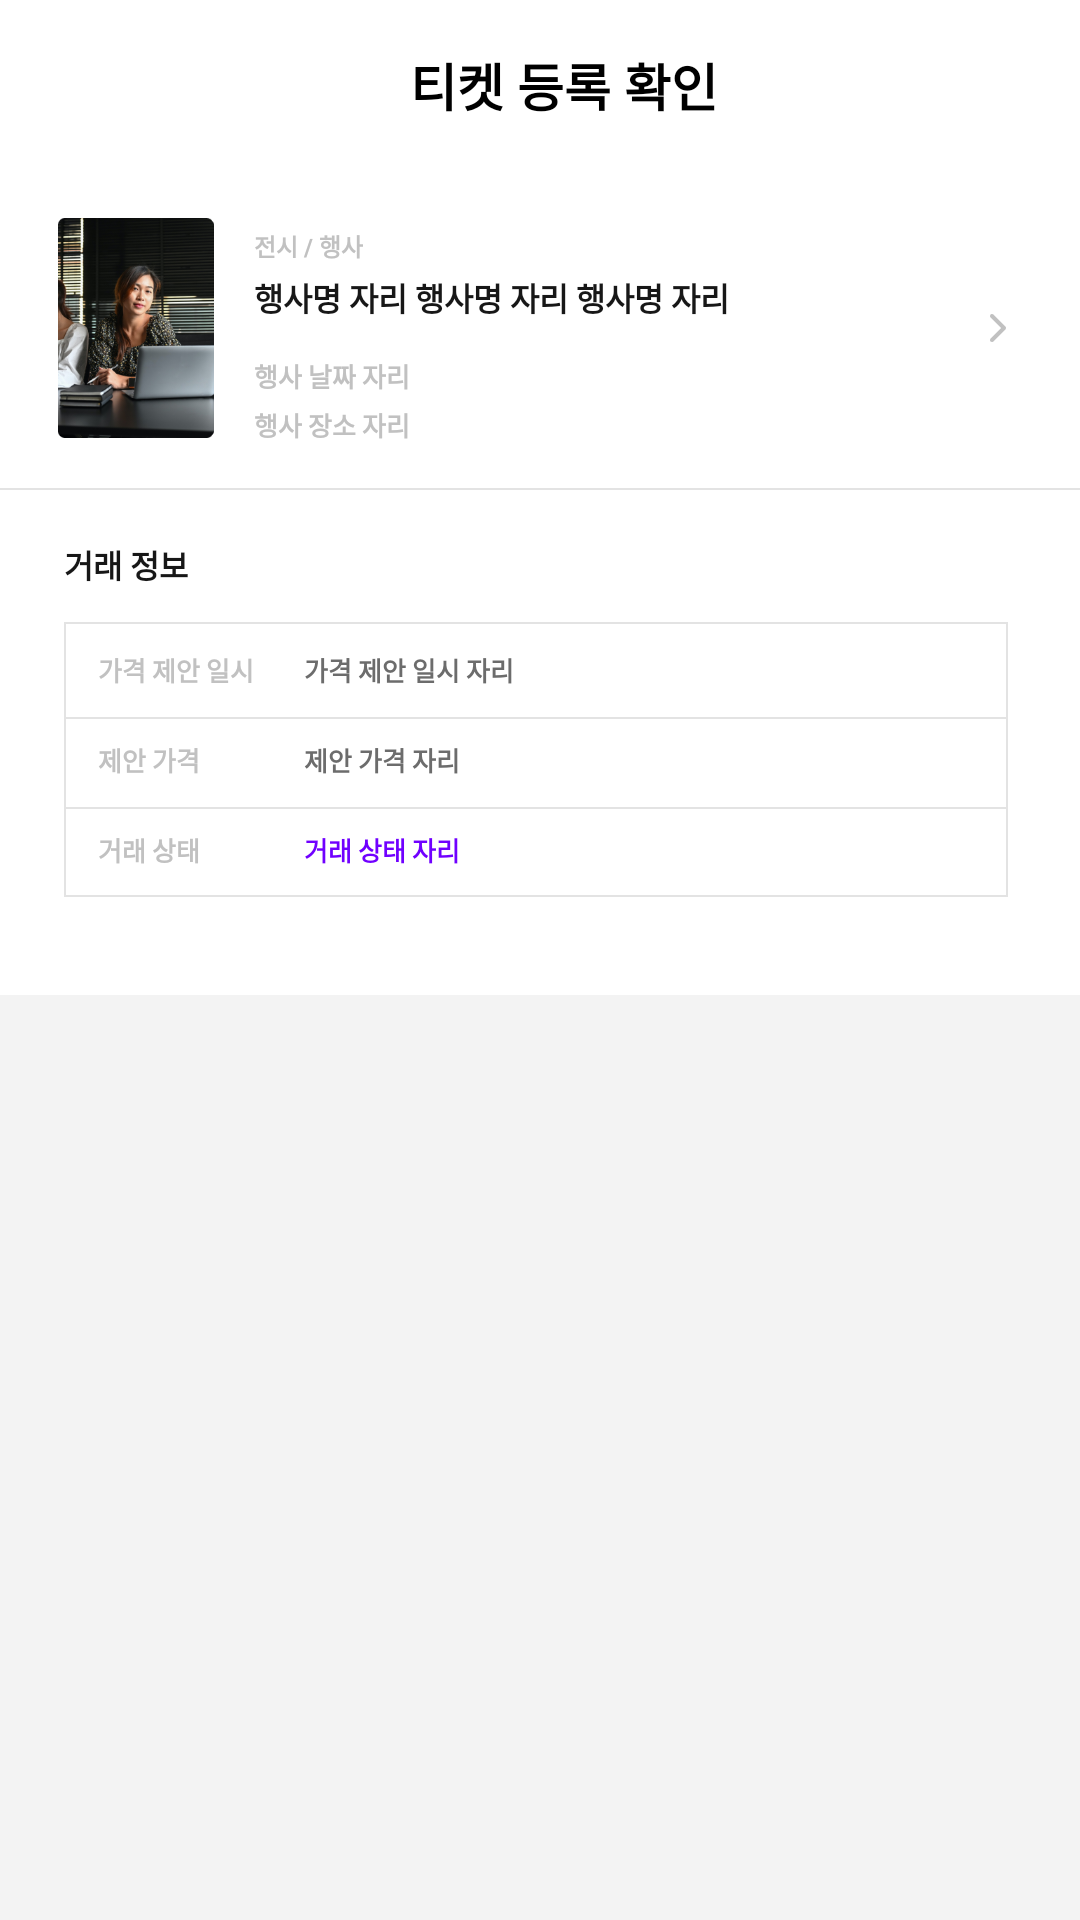

Icon click points for this 1080 x 1920 phone screenshot, format (x,y):
right: (998,328)
ticket main: (136,328)
